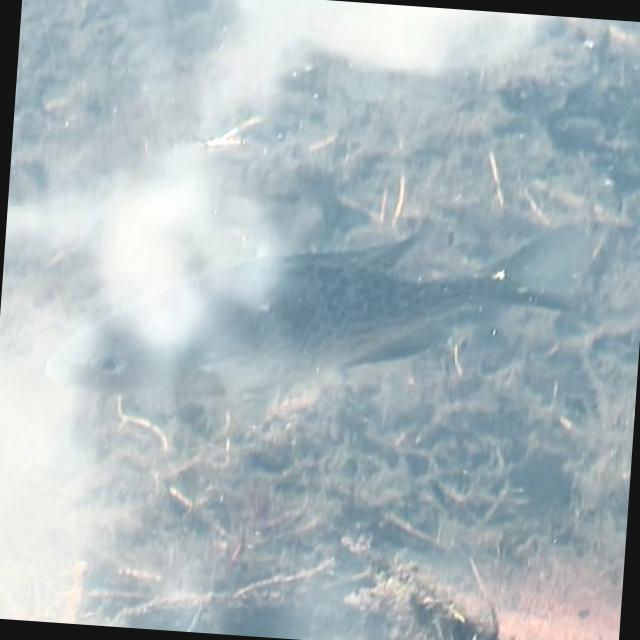Gunes Levregi: (39, 180, 608, 448)
